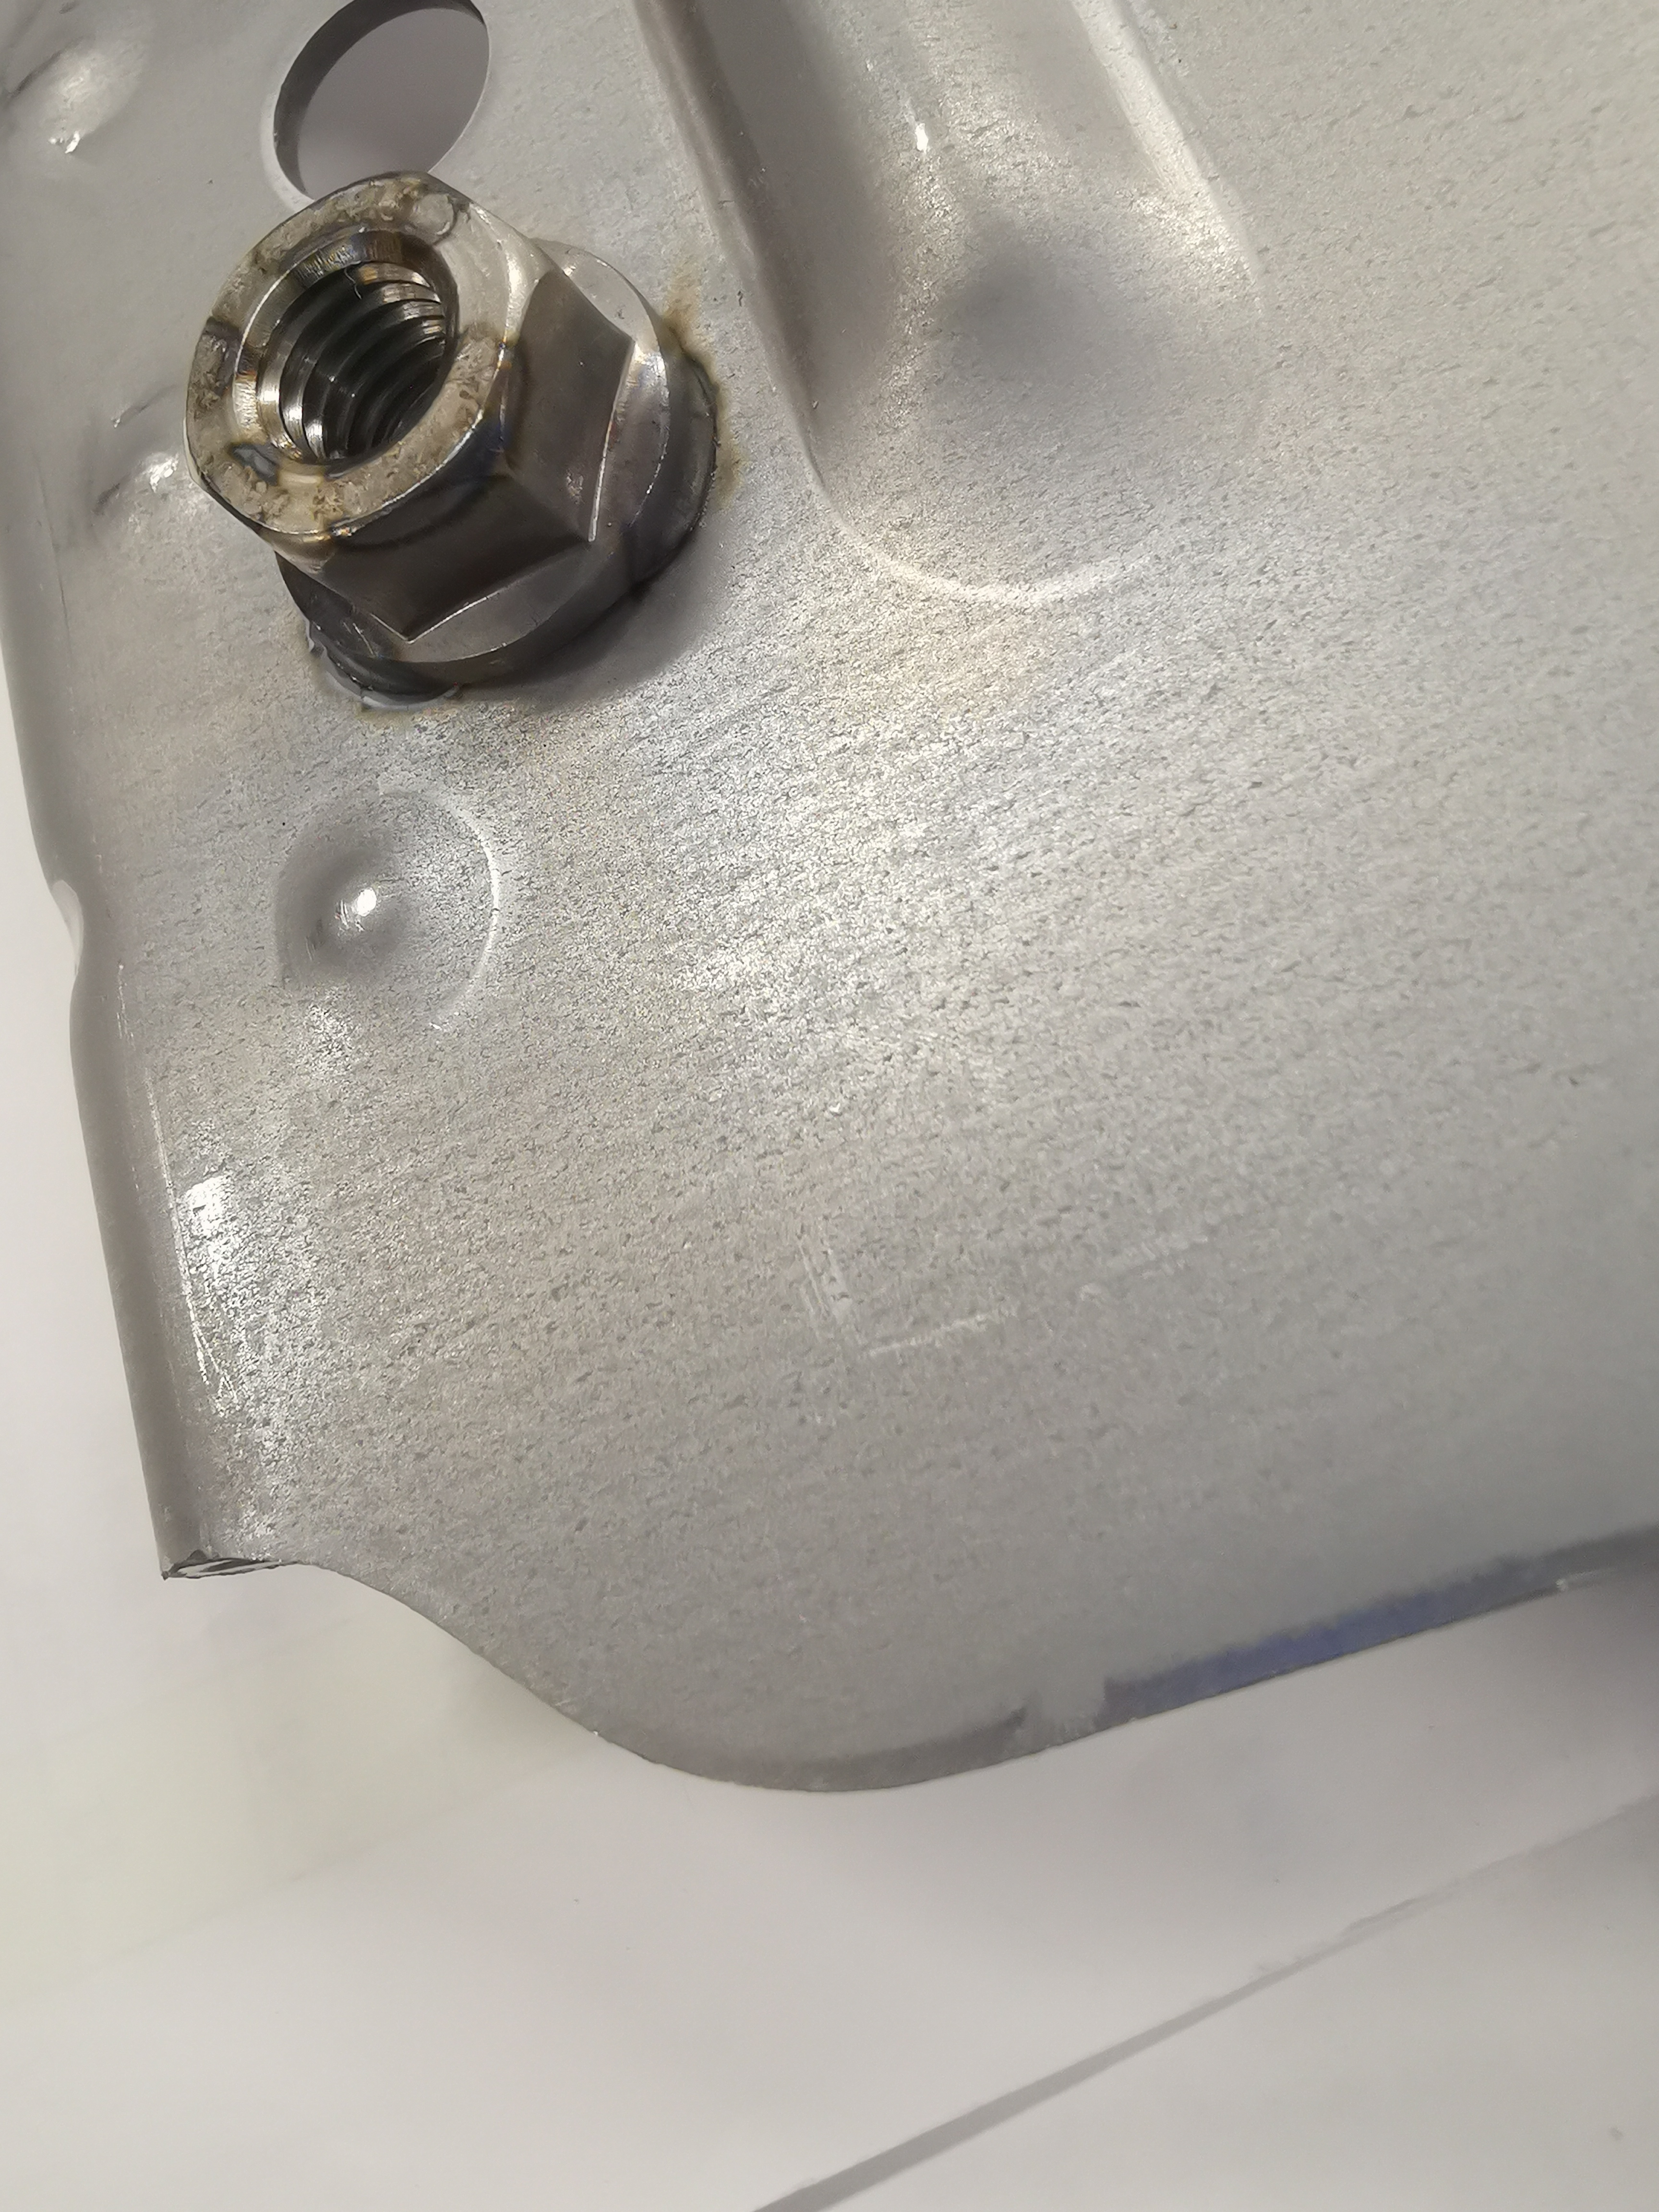dog: (173, 157, 737, 718)
